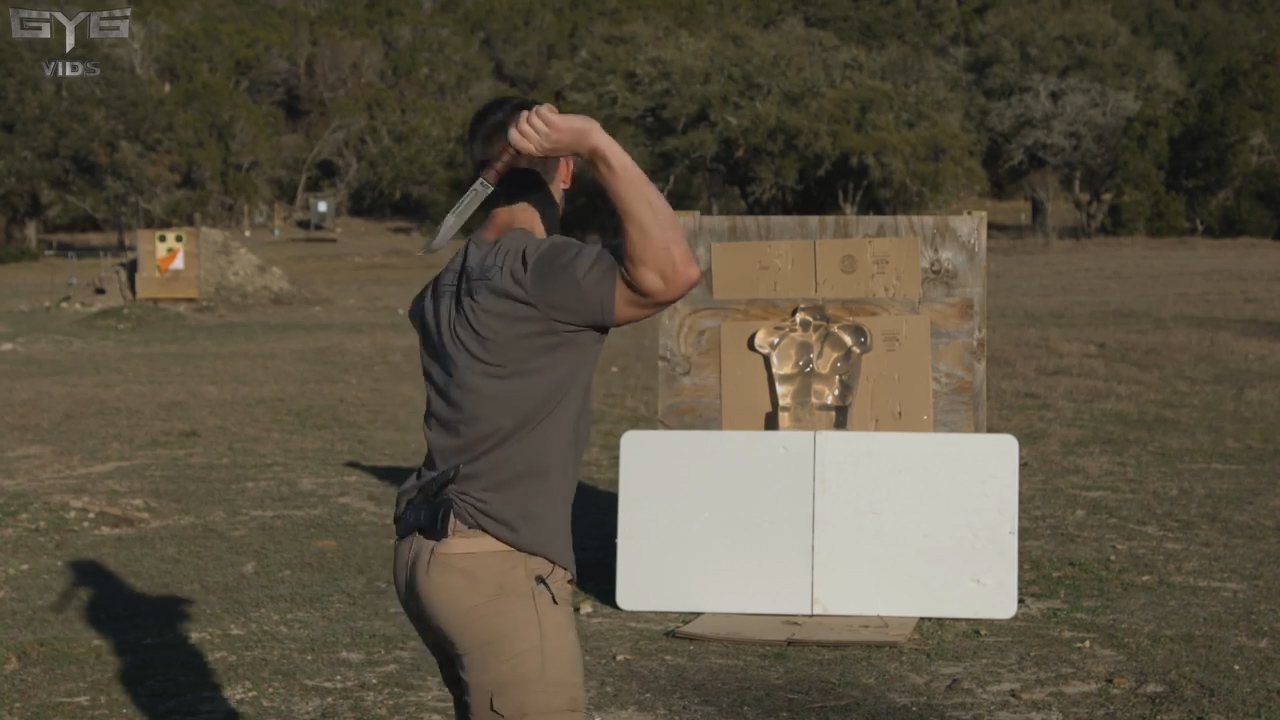knife: (421, 95, 571, 267)
